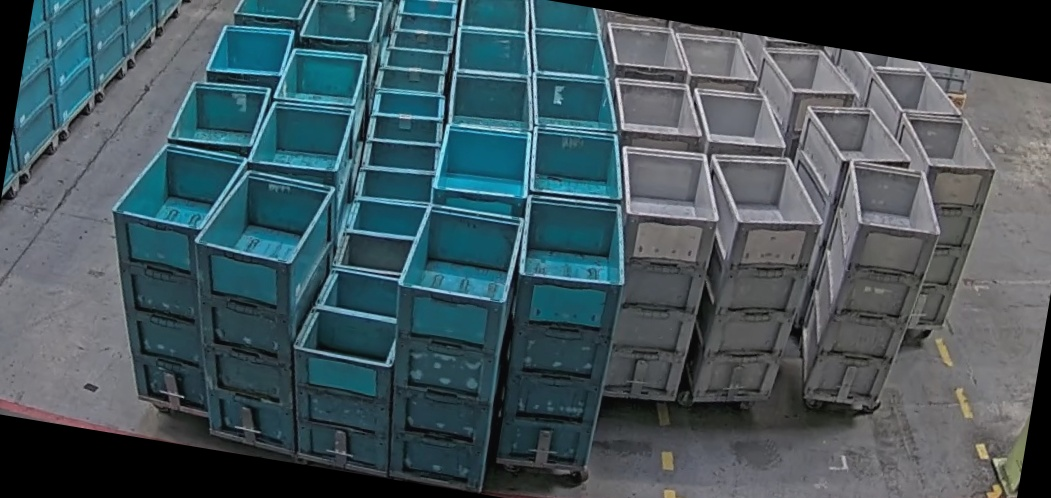4G: (671, 144, 833, 416), (790, 155, 951, 412), (583, 140, 729, 405), (866, 106, 1004, 333)
B4: (162, 159, 348, 454), (78, 134, 251, 415), (365, 198, 527, 493), (482, 187, 639, 474)
B8: (273, 261, 424, 476)
